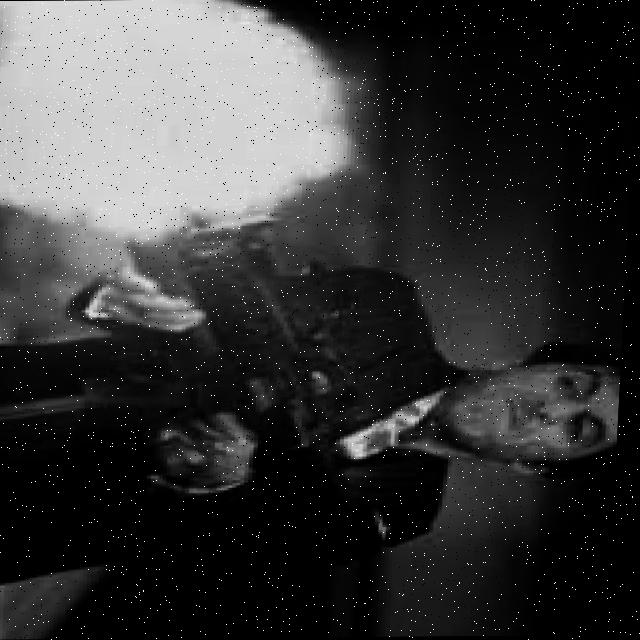firearm: (0, 222, 374, 521)
